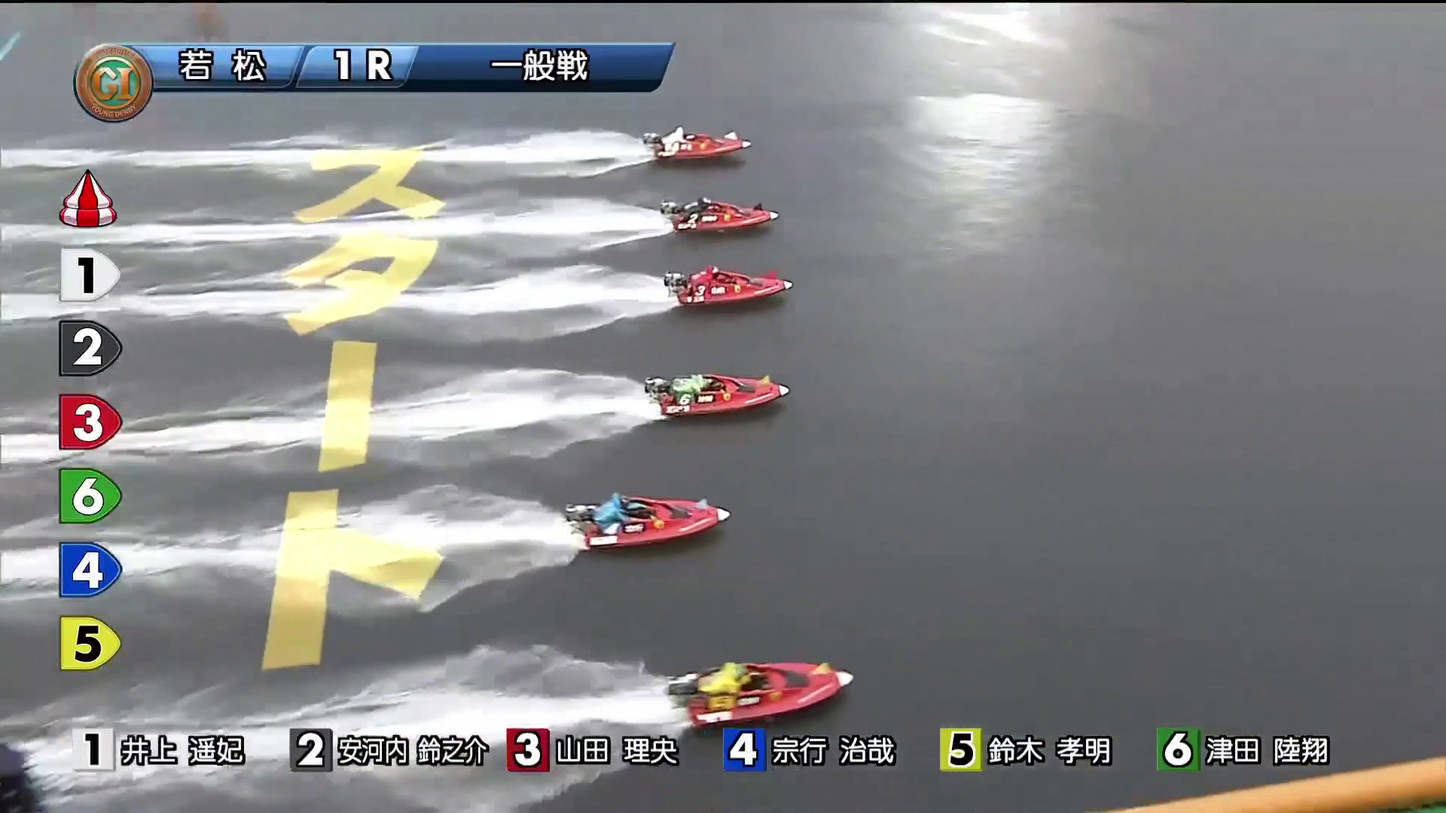１号艇: (666, 119, 733, 162)
２号艇: (669, 195, 772, 232)
３号艇: (676, 263, 801, 305)
４号艇: (676, 360, 781, 403)
５号艇: (591, 491, 711, 546)
６号艇: (676, 653, 834, 710)
